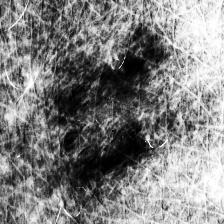Benign Marking or Mole: (45, 51, 160, 179)
